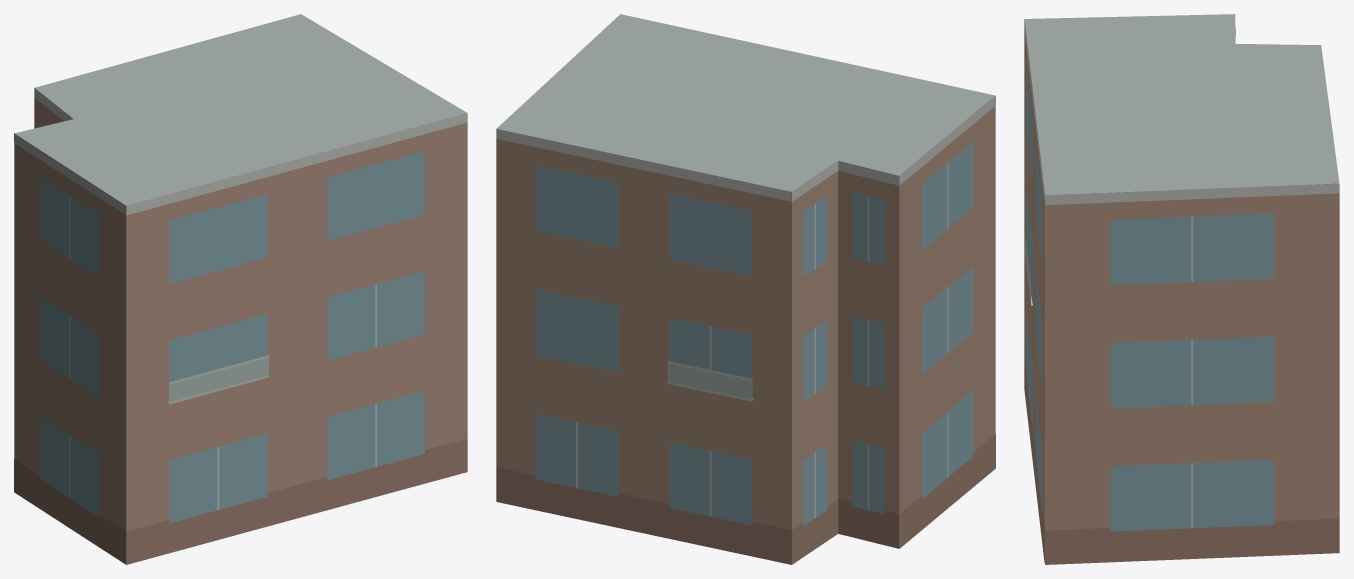
File: survey-upis-32614680.glb
The picture shows the model from 3 angles, left to right: view 1: azimuth 30°, elevation 25°; view 2: azimuth 150°, elevation 25°; view 3: azimuth 270°, elevation 25°; orthographic projection. The views are drawn at different scales.
Parts seen in each view (by area): view 1: survey-upis-32614680.tmp; view 2: survey-upis-32614680.tmp; view 3: survey-upis-32614680.tmp.
Part boxes in pixels (x1,y1,x2,y2): survey-upis-32614680.tmp: [14, 14, 467, 564]; survey-upis-32614680.tmp: [496, 14, 995, 564]; survey-upis-32614680.tmp: [1024, 14, 1339, 564].
Size of the model in its own units: 9.64 by 9.15 by 7.08.
